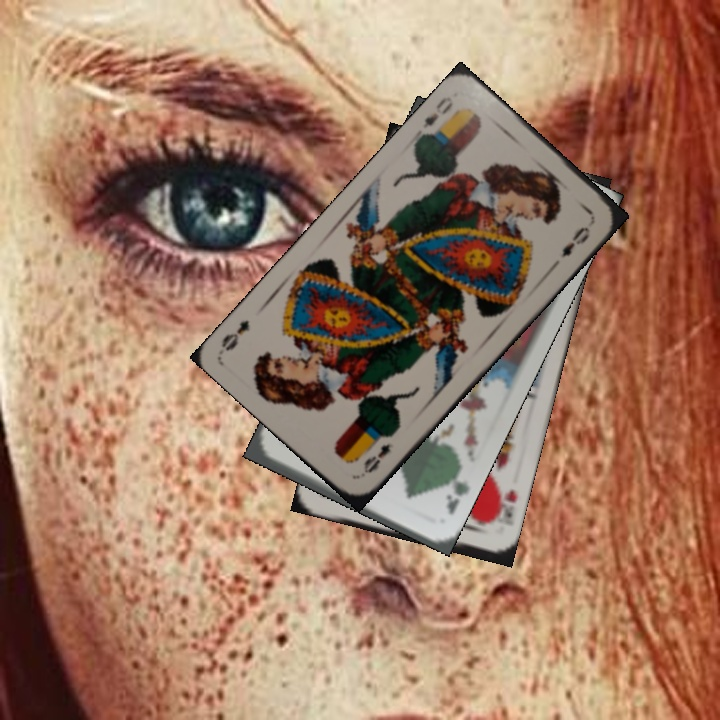EO: (357, 429, 397, 479), (418, 92, 456, 132)
GK: (441, 473, 472, 518)
HK: (486, 482, 521, 526)
